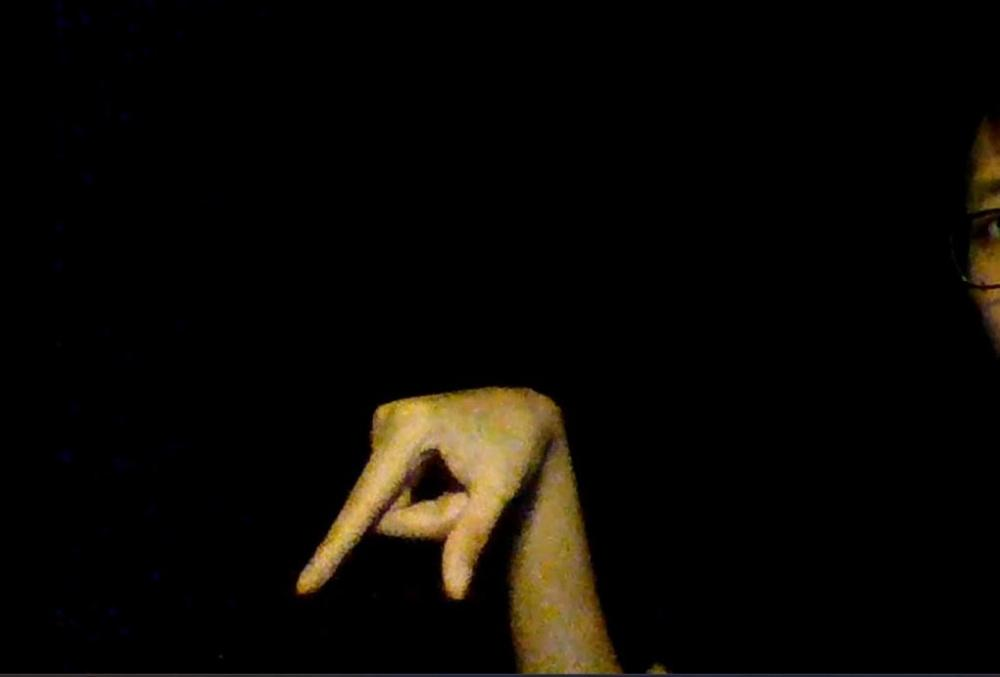q: (294, 381, 564, 596)
